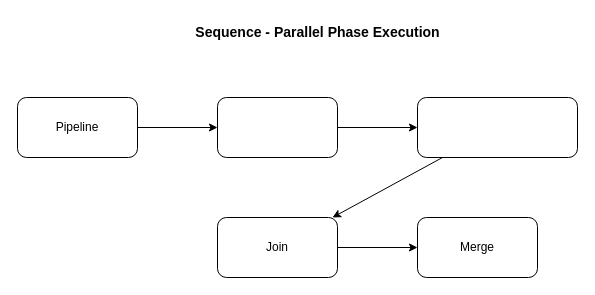
This 595x295 diagram has some shape labels left out. The shapes that lost their labels are listed below. From the top down, each one's centre as x and y in pixels, then its label:
At (x=277, y=127): "FanOut".
At (x=497, y=127): "Phase A/B parallel".
